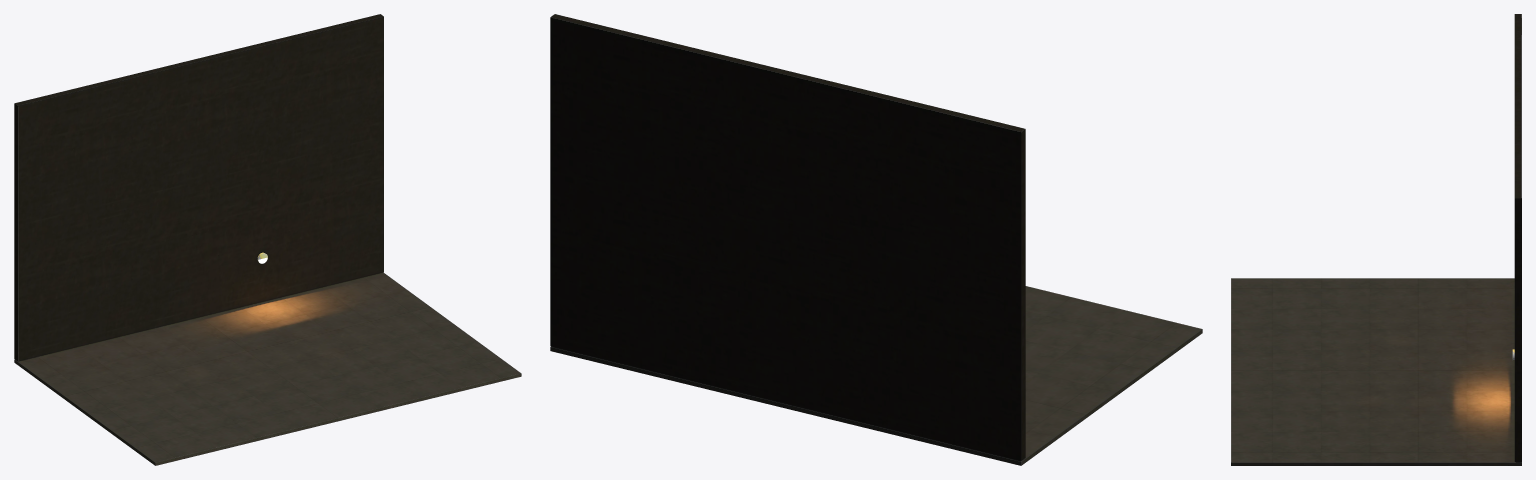
File: luce-1-on.glb
3 views of the same model, side by side, from view 1: azimuth 30°, elevation 25°; view 2: azimuth 150°, elevation 25°; view 3: azimuth 270°, elevation 25° (orthographic). The views are drawn at different scales.
Parts seen in each view (by area): view 1: Muro, Pavimento; view 2: Muro, Pavimento; view 3: Pavimento, Muro.
Part boxes in pixels (box(x1,y1,x2,y2)): Muro: box(14, 14, 383, 361); Pavimento: box(14, 272, 521, 465); Muro: box(550, 14, 1025, 460); Pavimento: box(550, 286, 1202, 465); Pavimento: box(1231, 278, 1521, 465); Muro: box(1514, 14, 1521, 461).
Bounding box in the file's own units: 5.99 × 4.06 × 4.
4 materials, 4 textured.
